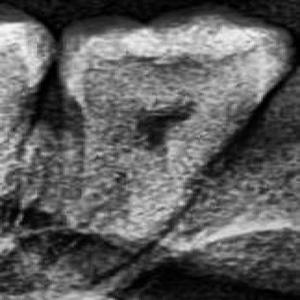tooth: (54, 7, 292, 257)
